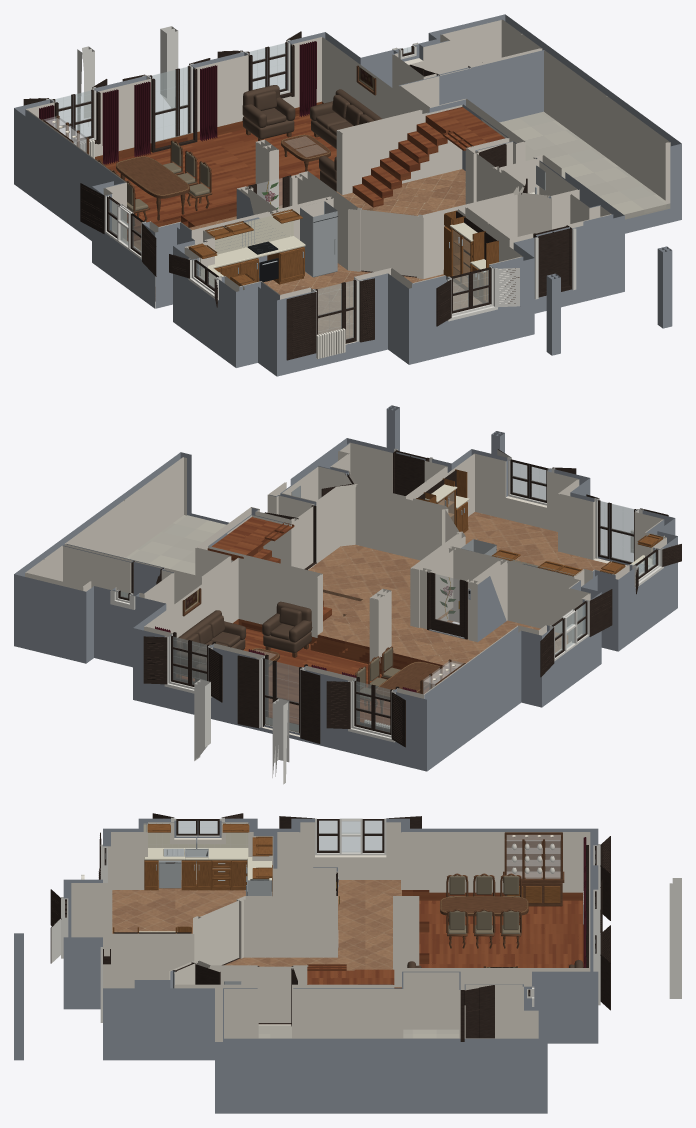
File: floor-1.glb
The picture shows the model from 3 angles, top to bottom: view 1: azimuth 30°, elevation 25°; view 2: azimuth 150°, elevation 25°; view 3: azimuth 270°, elevation 25°; orthographic projection. The views are drawn at different scales.
Parts seen in each view (by area): view 1: fixed | stucco, fixed | interior, fixed | wood_dark, fixed | wood_floor, fixed | glass, fixed | white_trim, fixed | terra_floor, fixed | stone_tile, fixed | wood_honey, fixed | burgundy_velvet, furniture | leather_brown, furniture | antique_wood (+6 smaller); view 2: fixed | interior, fixed | stucco, fixed | wood_dark, fixed | terra_floor, fixed | glass, fixed | wood_floor, fixed | white_trim, furniture | leather_brown, fixed | stone_tile, furniture | antique_wood, fixed | wood_honey, fixed | cabinet_glass (+3 smaller); view 3: fixed | interior, fixed | stucco, fixed | wood_floor, fixed | terra_floor, fixed | wood_dark, furniture | antique_wood, fixed | white_trim, fixed | wood_honey, fixed | Ivory kitchen countertop, furniture | chair_tapestry, fixed | glass, furniture | cabinet_glass (+3 smaller).
Boxes of the visible parts, <box> form: fixed | stucco: <box>14,14,681,376</box>; fixed | interior: <box>26,19,670,344</box>; fixed | wood_dark: <box>23,31,571,360</box>; fixed | wood_floor: <box>95,101,504,240</box>; fixed | glass: <box>55,43,488,339</box>; fixed | white_trim: <box>46,26,576,341</box>; fixed | terra_floor: <box>134,169,481,338</box>; fixed | stone_tile: <box>155,111,670,219</box>; fixed | wood_honey: <box>188,209,498,302</box>; fixed | burgundy_velvet: <box>39,41,316,164</box>; furniture | leather_brown: <box>242,85,381,191</box>; furniture | antique_wood: <box>41,115,330,225</box>; fixed | interior: <box>25,442,666,736</box>; fixed | stucco: <box>14,405,677,771</box>; fixed | wood_dark: <box>118,449,681,747</box>; fixed | terra_floor: <box>308,512,608,667</box>; fixed | glass: <box>120,462,655,732</box>; fixed | wood_floor: <box>182,517,455,725</box>; fixed | white_trim: <box>110,448,663,784</box>; furniture | leather_brown: <box>177,601,312,681</box>; fixed | stone_tile: <box>125,515,298,732</box>; furniture | antique_wood: <box>177,643,465,713</box>; fixed | wood_honey: <box>416,469,662,576</box>; fixed | cabinet_glass: <box>435,574,459,624</box>; fixed | interior: <box>71,822,590,1041</box>; fixed | stucco: <box>14,818,598,1113</box>; fixed | wood_floor: <box>307,890,583,988</box>; fixed | terra_floor: <box>112,880,401,987</box>; fixed | wood_dark: <box>50,813,610,1041</box>; furniture | antique_wood: <box>440,832,564,948</box>; fixed | white_trim: <box>51,817,681,1022</box>; fixed | wood_honey: <box>113,823,272,933</box>; fixed | Ivory kitchen countertop: <box>139,823,271,932</box>; furniture | chair_tapestry: <box>448,875,520,934</box>; fixed | glass: <box>105,820,595,994</box>; furniture | cabinet_glass: <box>506,835,560,878</box>.
Size of the model in its own units: 13.67 by 2.2 by 16.87.
Materials: 28 (28 with a texture image).
